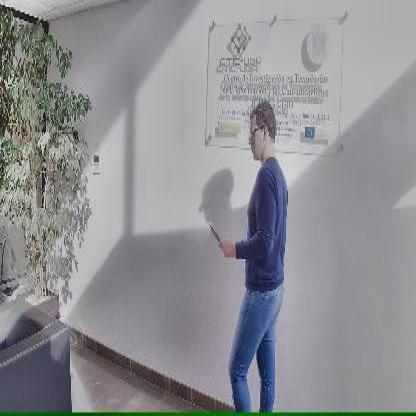knife: (208, 218, 226, 251)
